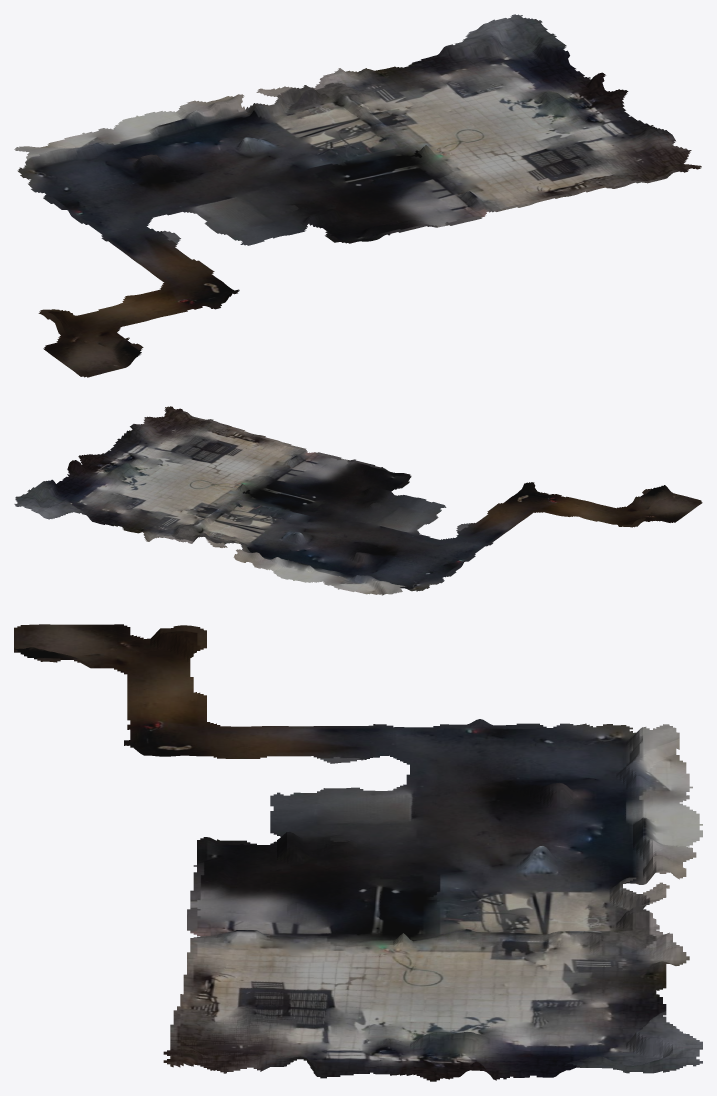
File: floorfill.glb
3 views of the same model, one above another, from view 1: azimuth 30°, elevation 25°; view 2: azimuth 150°, elevation 25°; view 3: azimuth 270°, elevation 25° (orthographic). The views are drawn at different scales.
Visible parts, largest first — view 1: geometry_0; view 2: geometry_0; view 3: geometry_0.
Part boxes in pixels (x1,y1,x2,y2): geometry_0: (14, 14, 701, 377); geometry_0: (14, 406, 702, 595); geometry_0: (14, 624, 702, 1081).
Bounding box in the file's own units: 16.45 × 0.3105 × 10.35.
1 material, 1 textured.
